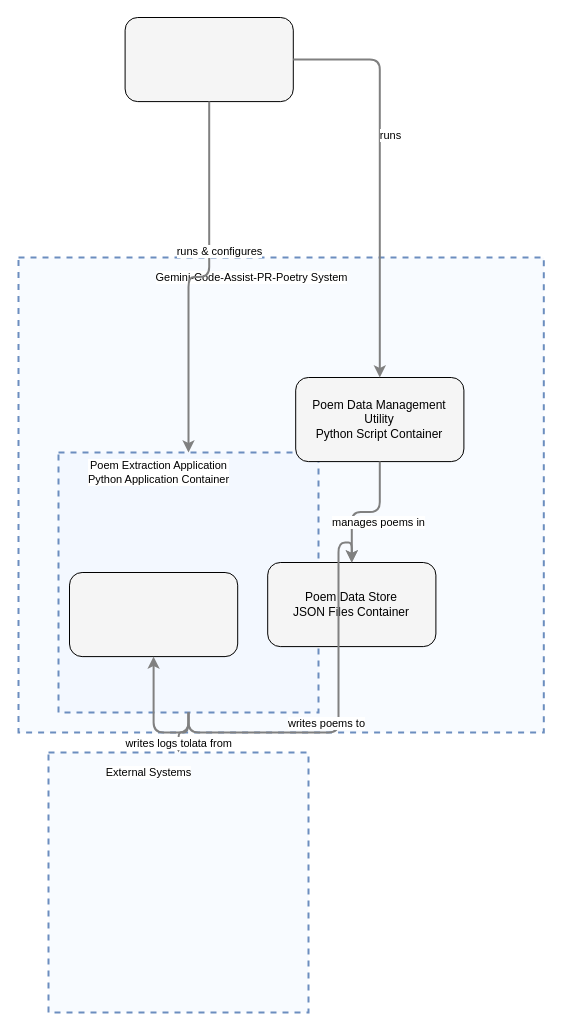
Image size: 562x1031. Some labels were removed from this diagram. The shapes that lost their labels are listed below. From the top down, each one's centre as x and y in pixels, then its label:
At (208,59): "Developer/Operator Human".
At (153,614): "Log Data Store Log Files Container".
